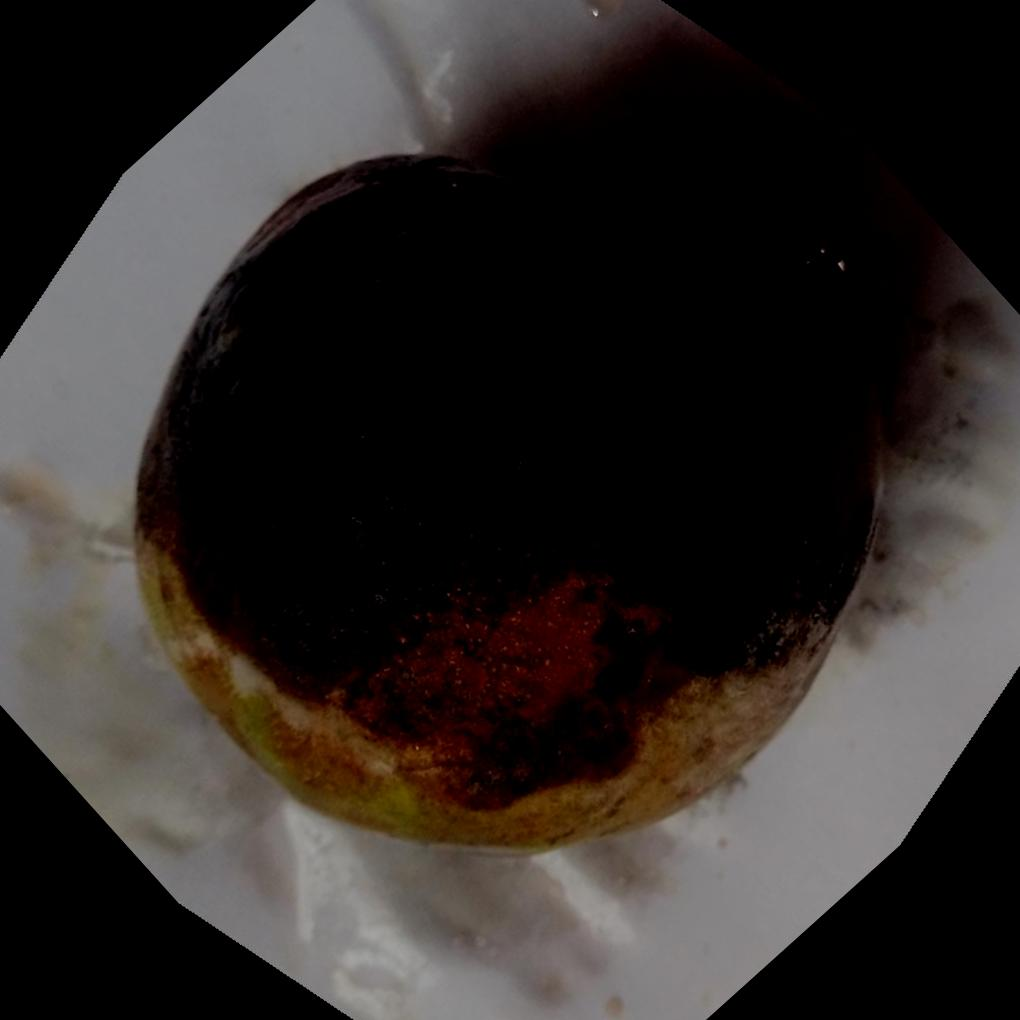FreshOrange: (128, 150, 886, 853)
